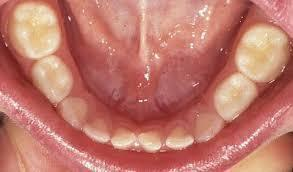cavity: (232, 21, 293, 84), (7, 2, 60, 58), (213, 72, 261, 121)
normal: (31, 58, 75, 101), (190, 107, 227, 143), (56, 98, 89, 130), (136, 127, 167, 152), (166, 127, 198, 150), (84, 121, 110, 145), (110, 127, 137, 149)
